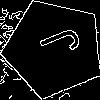J: (29, 24, 83, 65)
